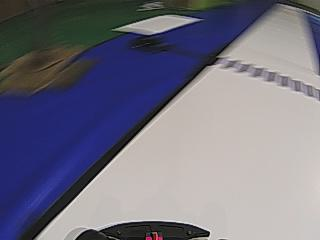CrossWalk: (203, 54, 320, 100)
